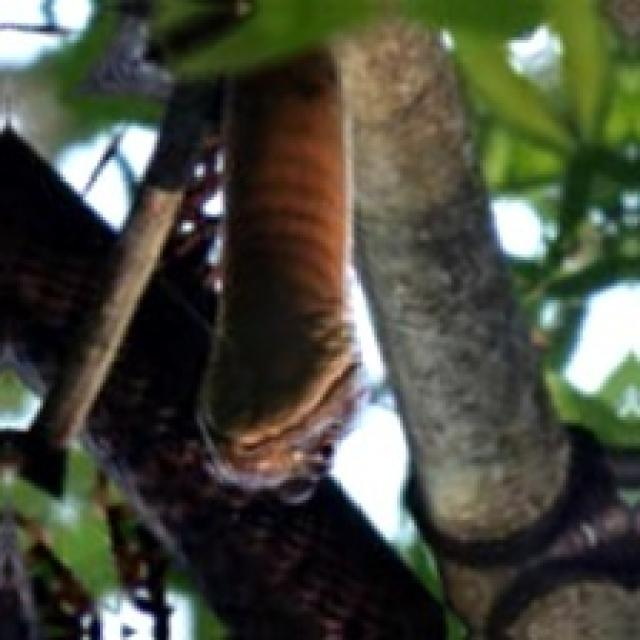king cobra: (37, 0, 637, 637)
